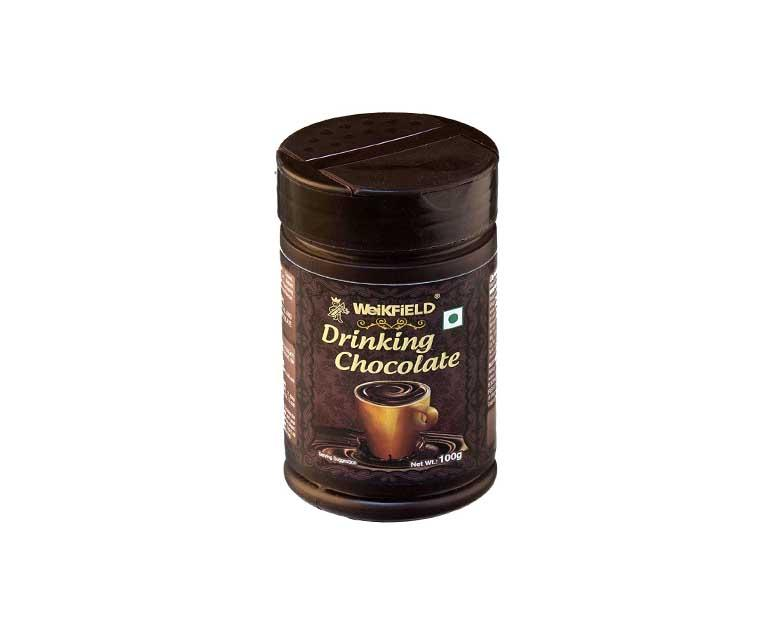Cocoa Powder: (276, 111, 501, 525)
